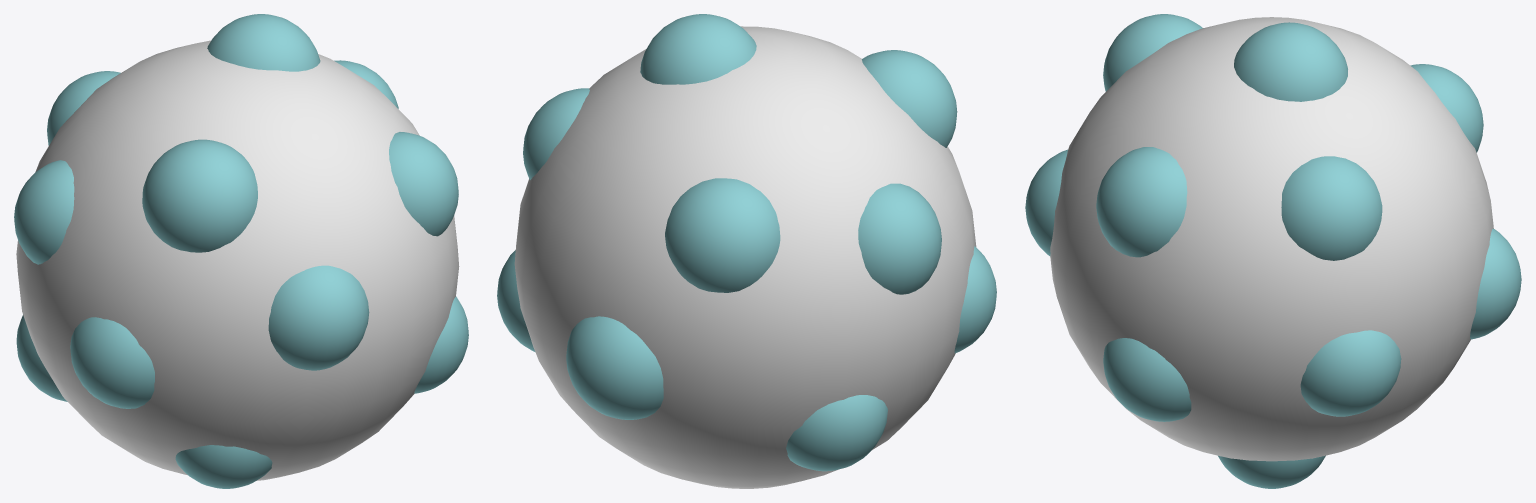
File: thompson.fbx
The picture shows the model from 3 angles, left to right: view 1: azimuth 30°, elevation 25°; view 2: azimuth 150°, elevation 25°; view 3: azimuth 270°, elevation 25°; orthographic projection. The views are drawn at different scales.
Visible parts, largest first — view 1: Sphere, Sphere.013, Sphere.007, Sphere.006, Sphere.009, Sphere.012, Sphere.014, Sphere.004, Sphere.003, Sphere.010, Sphere.005, Sphere.008; view 2: Sphere, Sphere.010, Sphere.011, Sphere.014, Sphere.012, Sphere.005, Sphere.013, Sphere.008, Sphere.006, Sphere.002; view 3: Sphere, Sphere.008, Sphere.009, Sphere.012, Sphere.002, Sphere.003, Sphere.011, Sphere.013, Sphere.010, Sphere.007, Sphere.001.
Part boxes in pixels (bbox=[...]): Sphere: bbox=[16, 40, 459, 480]; Sphere.013: bbox=[142, 139, 257, 252]; Sphere.007: bbox=[268, 265, 369, 370]; Sphere.006: bbox=[70, 317, 154, 408]; Sphere.009: bbox=[389, 132, 458, 236]; Sphere.012: bbox=[207, 14, 320, 71]; Sphere.014: bbox=[14, 160, 74, 264]; Sphere.004: bbox=[175, 445, 272, 488]; Sphere.003: bbox=[414, 296, 468, 393]; Sphere.010: bbox=[47, 71, 120, 145]; Sphere.005: bbox=[16, 315, 67, 401]; Sphere.008: bbox=[334, 60, 398, 108]; Sphere: bbox=[514, 26, 976, 488]; Sphere.010: bbox=[665, 178, 780, 292]; Sphere.011: bbox=[566, 316, 663, 419]; Sphere.014: bbox=[858, 183, 941, 294]; Sphere.012: bbox=[640, 14, 756, 84]; Sphere.005: bbox=[786, 395, 887, 471]; Sphere.013: bbox=[862, 50, 957, 147]; Sphere.008: bbox=[523, 88, 589, 179]; Sphere.006: bbox=[954, 246, 996, 353]; Sphere.002: bbox=[497, 250, 535, 351]; Sphere: bbox=[1050, 17, 1493, 461]; Sphere.008: bbox=[1281, 156, 1382, 260]; Sphere.009: bbox=[1096, 147, 1187, 257]; Sphere.012: bbox=[1234, 22, 1347, 101]; Sphere.002: bbox=[1300, 330, 1401, 416]; Sphere.003: bbox=[1103, 338, 1191, 421]; Sphere.011: bbox=[1470, 229, 1521, 339]; Sphere.013: bbox=[1103, 14, 1202, 91]; Sphere.010: bbox=[1410, 64, 1483, 152]; Sphere.007: bbox=[1025, 149, 1067, 256]; Sphere.001: bbox=[1218, 455, 1325, 488].
Bounding box in the file's own units: 205 × 221 × 222.
